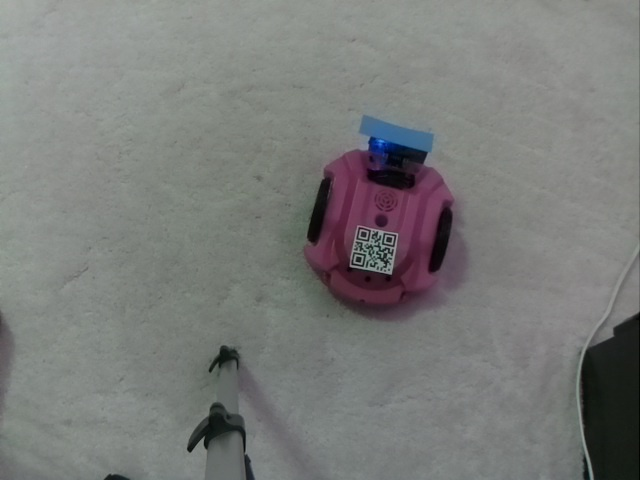chassis: (293, 119, 459, 310)
qr: (347, 220, 404, 279)
